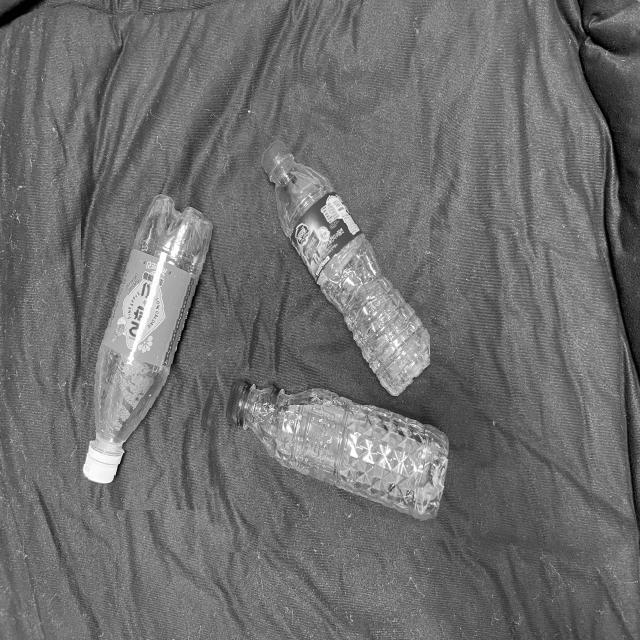plastic bottle: (243, 117, 430, 405), (81, 177, 230, 510), (213, 351, 474, 541)
